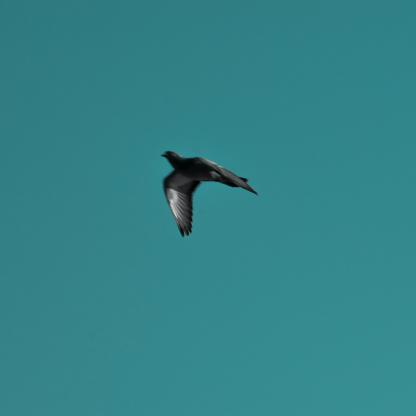bird: (161, 150, 259, 238)
